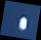Squash-Ball: (1, 1, 41, 40)
